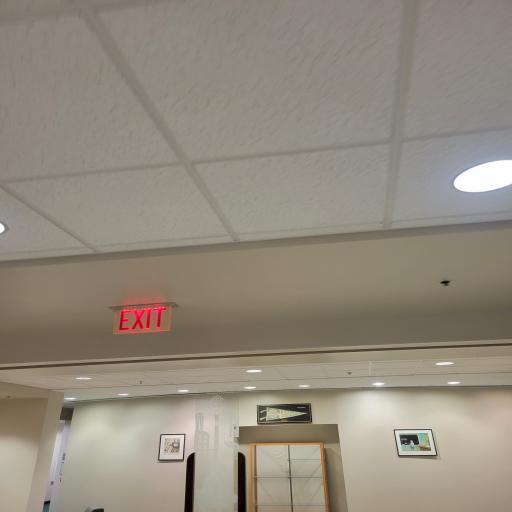exit sign: (108, 299, 192, 341)
